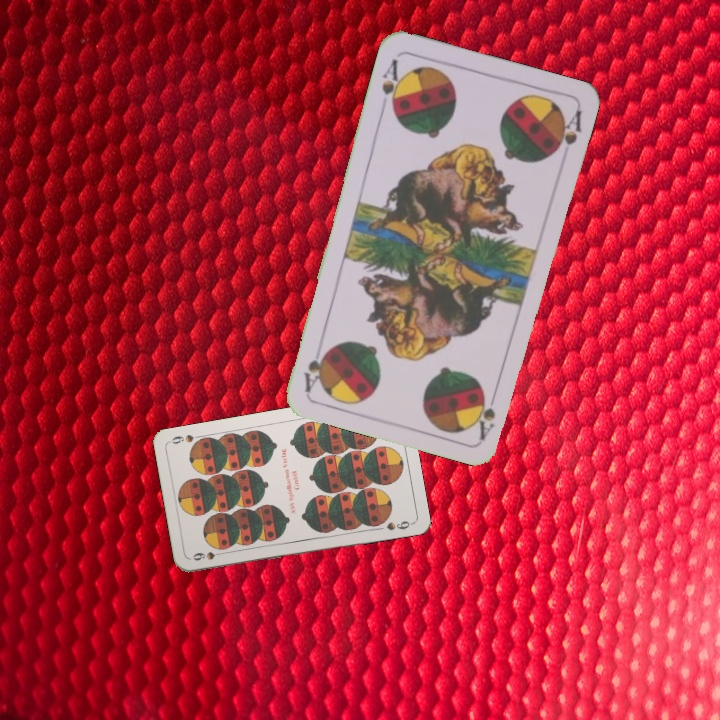S9: (189, 548, 228, 563)
SA: (377, 55, 406, 115), (474, 383, 501, 441)
